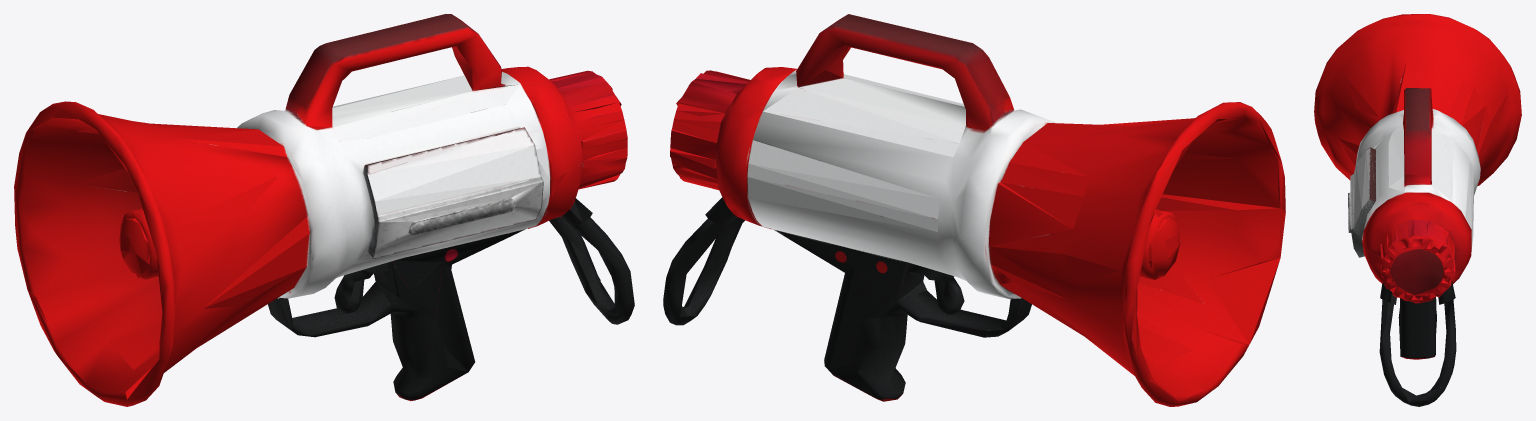
File: Megaphone.fbx
3 views of the same model, side by side, from view 1: azimuth 30°, elevation 25°; view 2: azimuth 150°, elevation 25°; view 3: azimuth 270°, elevation 25° (orthographic). The views are drawn at different scales.
Visible parts, largest first — view 1: Mesh_0; view 2: Mesh_0; view 3: Mesh_0.
Boxes of the visible parts, bbox=[...] form: Mesh_0: bbox=[14, 14, 634, 406]; Mesh_0: bbox=[663, 14, 1285, 406]; Mesh_0: bbox=[1314, 14, 1521, 406].
Bounding box in the file's own units: 190 × 125 × 96.39.
1 material, 1 textured.
